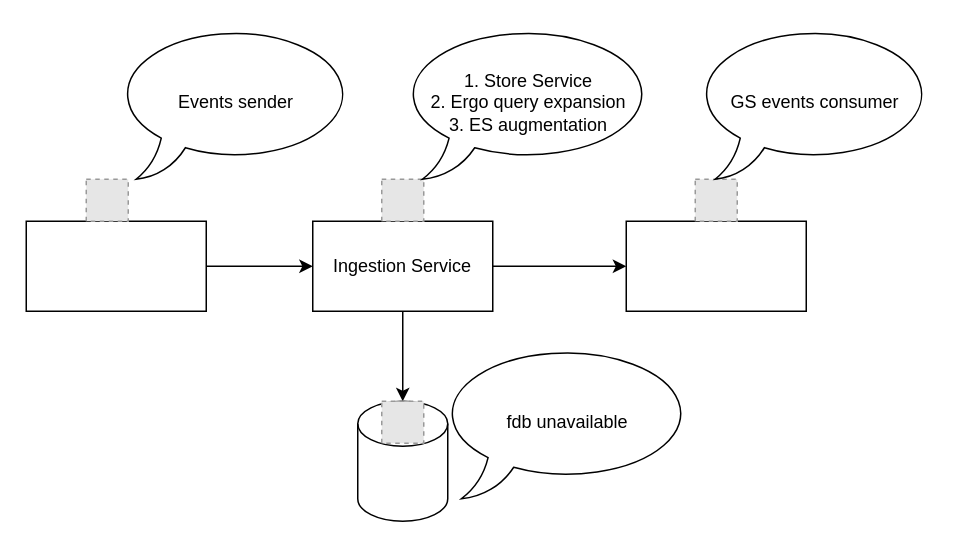
Some shapes in this 962 by 548 pixel diagram are drawn without their labels. Grey dashed boxes stand in for pictures. The shapes that lost their labels are listed below. From the top down, each one's box as (x1, y1, x2, y2) in pixels, then its label:
(25, 220, 206, 311): Glossary Service
(625, 220, 806, 311): GS Service
(356, 400, 448, 521): FDB
